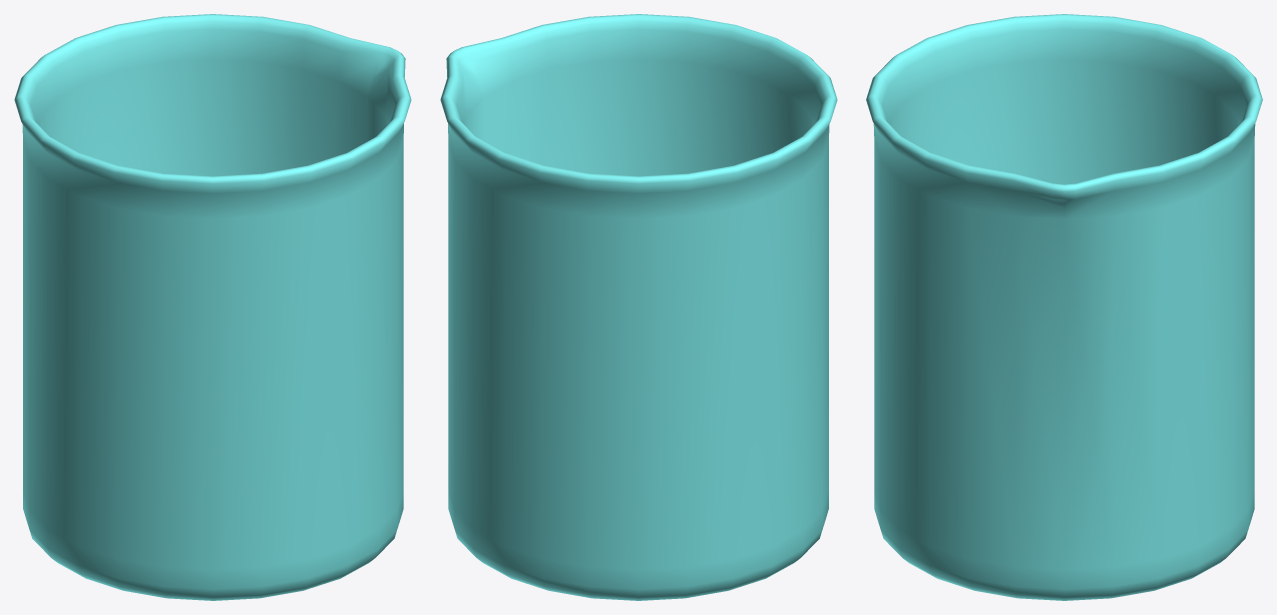
The picture shows the model from 3 angles, left to right: view 1: azimuth 30°, elevation 25°; view 2: azimuth 150°, elevation 25°; view 3: azimuth 270°, elevation 25°; orthographic projection.
Parts seen in each view (by area): view 1: lab_beaker_a; view 2: lab_beaker_a; view 3: lab_beaker_a.
Boxes of the visible parts, <box> form: lab_beaker_a: <box>14,14,411,600</box>; lab_beaker_a: <box>440,14,837,600</box>; lab_beaker_a: <box>866,14,1262,600</box>.
Bounding box in the file's own units: 0.3311 × 0.3781 × 0.3155.
